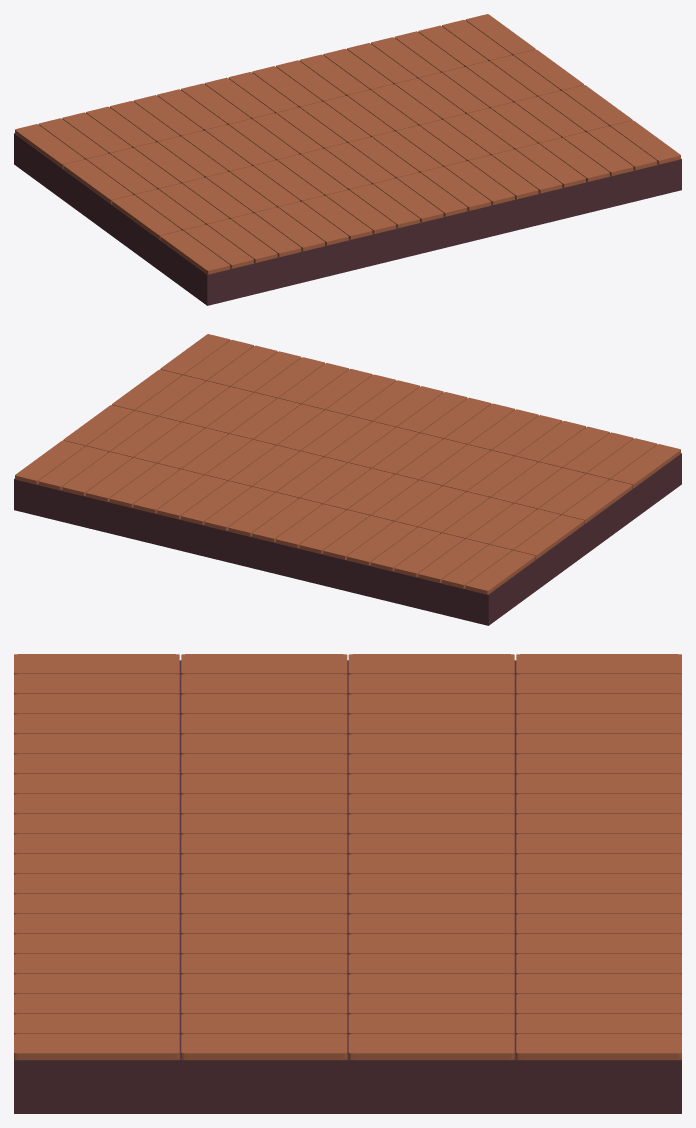
The model's file is chao-grande.fbx.
3 renders of one model, top to bottom at view 1: azimuth 30°, elevation 25°; view 2: azimuth 150°, elevation 25°; view 3: azimuth 270°, elevation 25°, orthographic. The views are drawn at different scales.
Visible parts, largest first — view 1: Cube.038; view 2: Cube.038; view 3: Cube.038.
Boxes of the visible parts, left/top/right/bottom form: Cube.038: left=14, top=14, right=681, bottom=305; Cube.038: left=14, top=334, right=681, bottom=625; Cube.038: left=14, top=654, right=681, bottom=1113.
Size of the model in its own units: 850 by 59.62 by 600.
